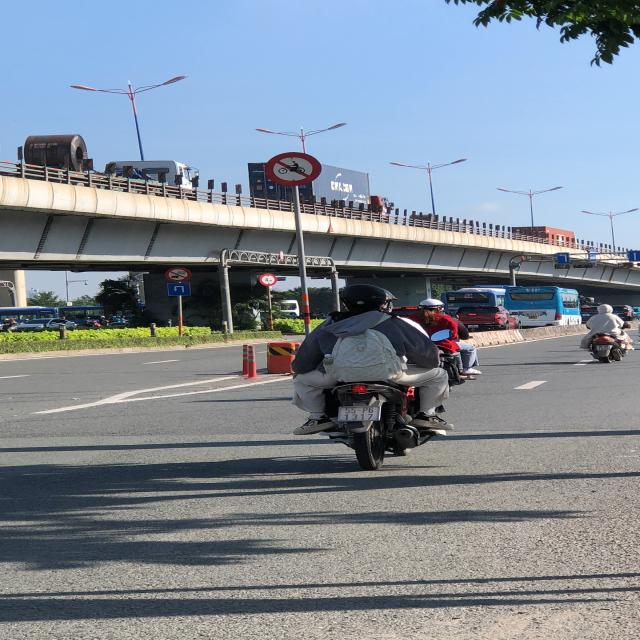Bien bao cam xe may: (264, 150, 324, 185)
